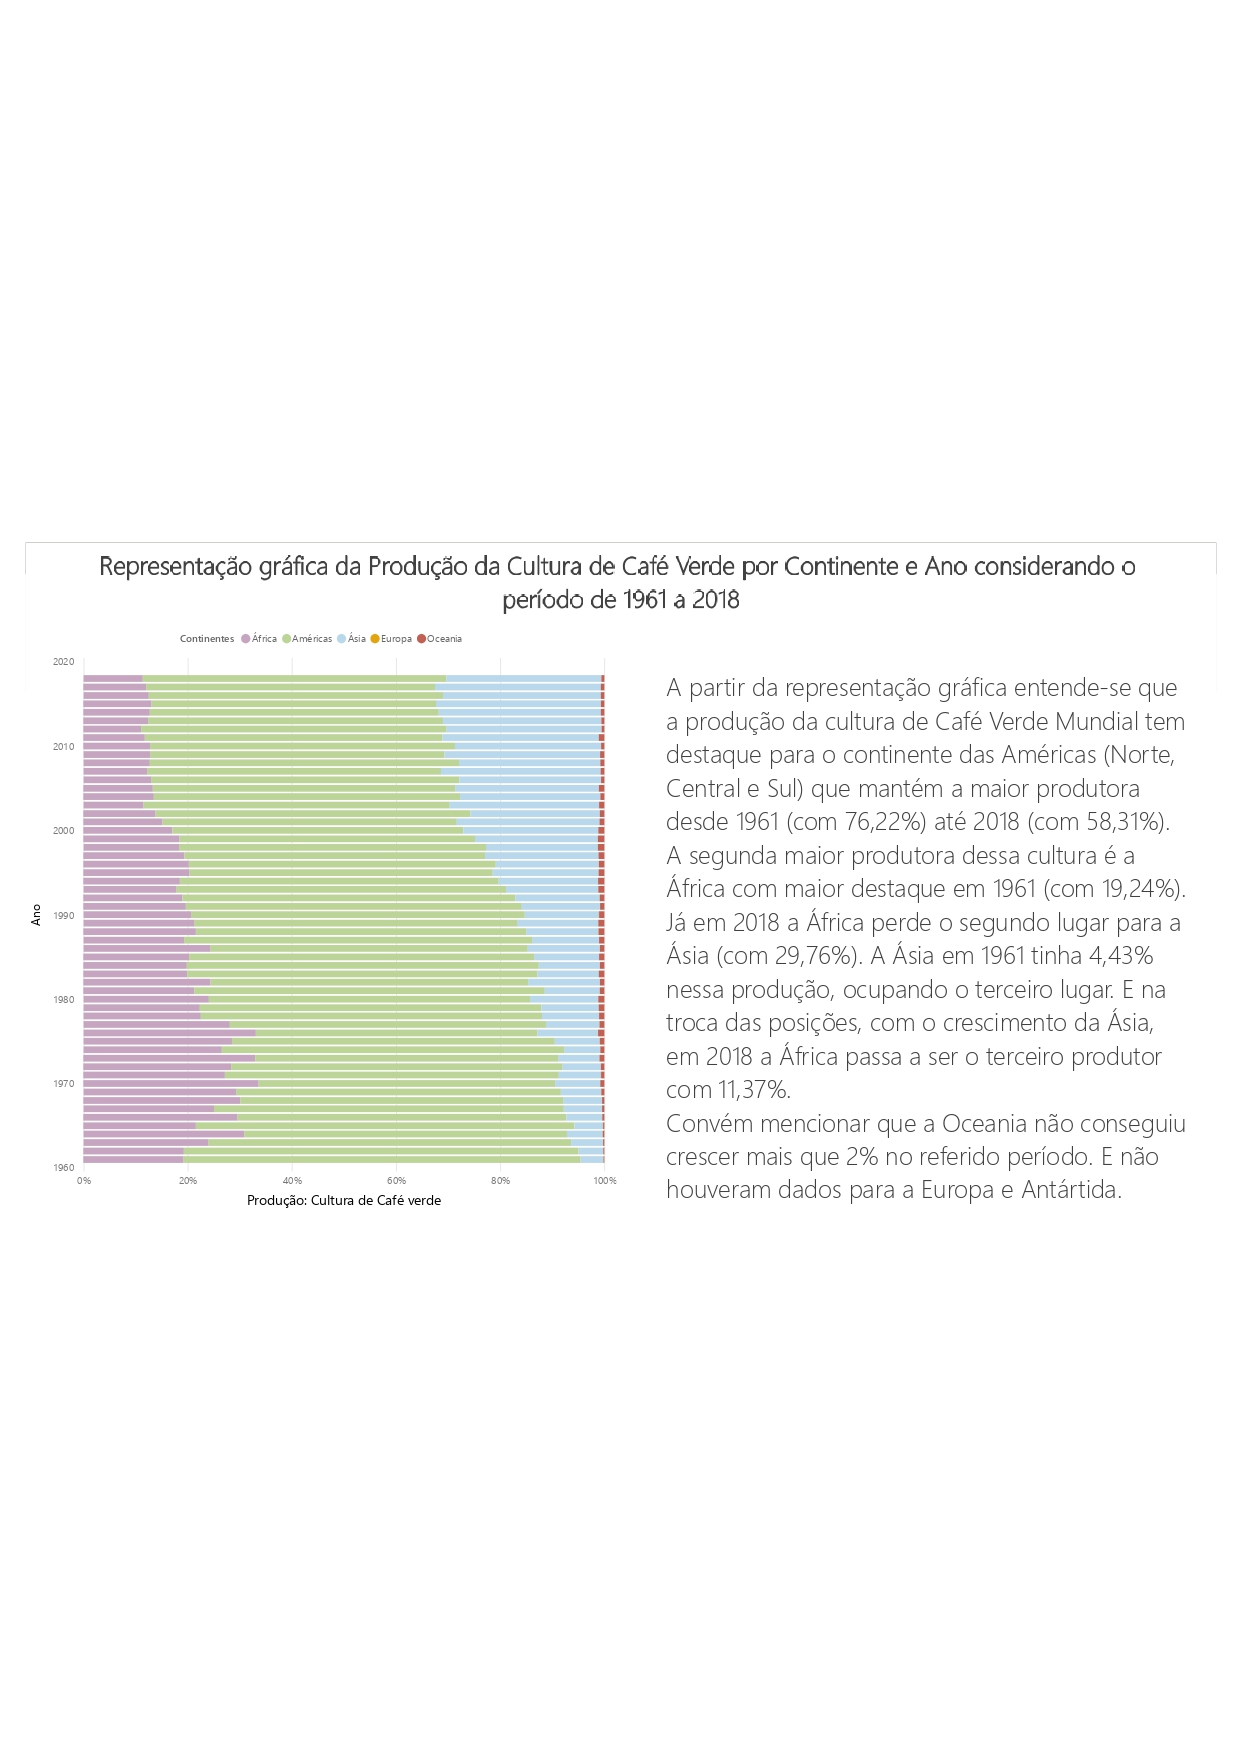

The page's visual inventory and layout, read from the dashboard file:
{"tool":"powerbi","page":{"name":"Página 1","canvas":[1280,720],"ordinal":0},"visuals":[{"type":"hundredPercentStackedBarChart","fields":{"Category":["dados.Ano"],"Y":["Sum(dados.Produção: Cultura de Café verde em toneladas)"],"Series":["dados.Entidade"]},"box":[0,84.2,640,636.6],"z":0},{"type":"textbox","box":[64,0,1152,131.4],"z":1000},{"type":"textbox","box":[683.8,131.4,576,589.5],"z":2000}]}

Visuals, with their boxes on the page's 1280x720 design canvas (x1, y1, x2, y2). These are canvas units, not pixel positions in the 1241x1755 screenshot, which may show the page scaled, cropped or inside an application window:
hundredPercentStackedBarChart - dados.Ano x Sum(dados.Produção: Cultura de Café verde em toneladas): (left=0, top=84, right=640, bottom=721)
textbox: (left=64, top=0, right=1216, bottom=131)
textbox: (left=684, top=131, right=1260, bottom=721)
